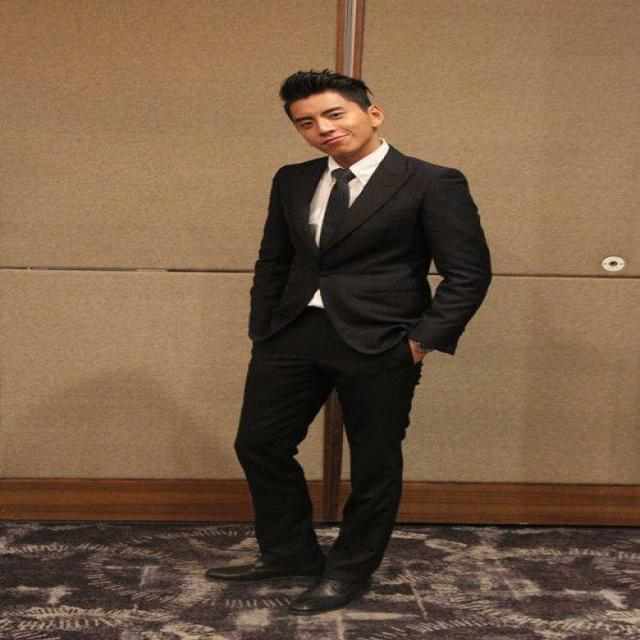Manusia: (184, 36, 490, 640)
